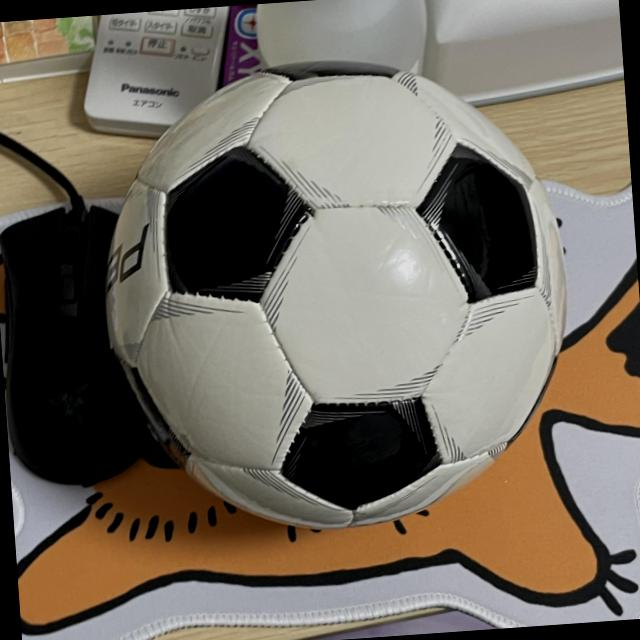Soccer Ball: (87, 44, 578, 546)
